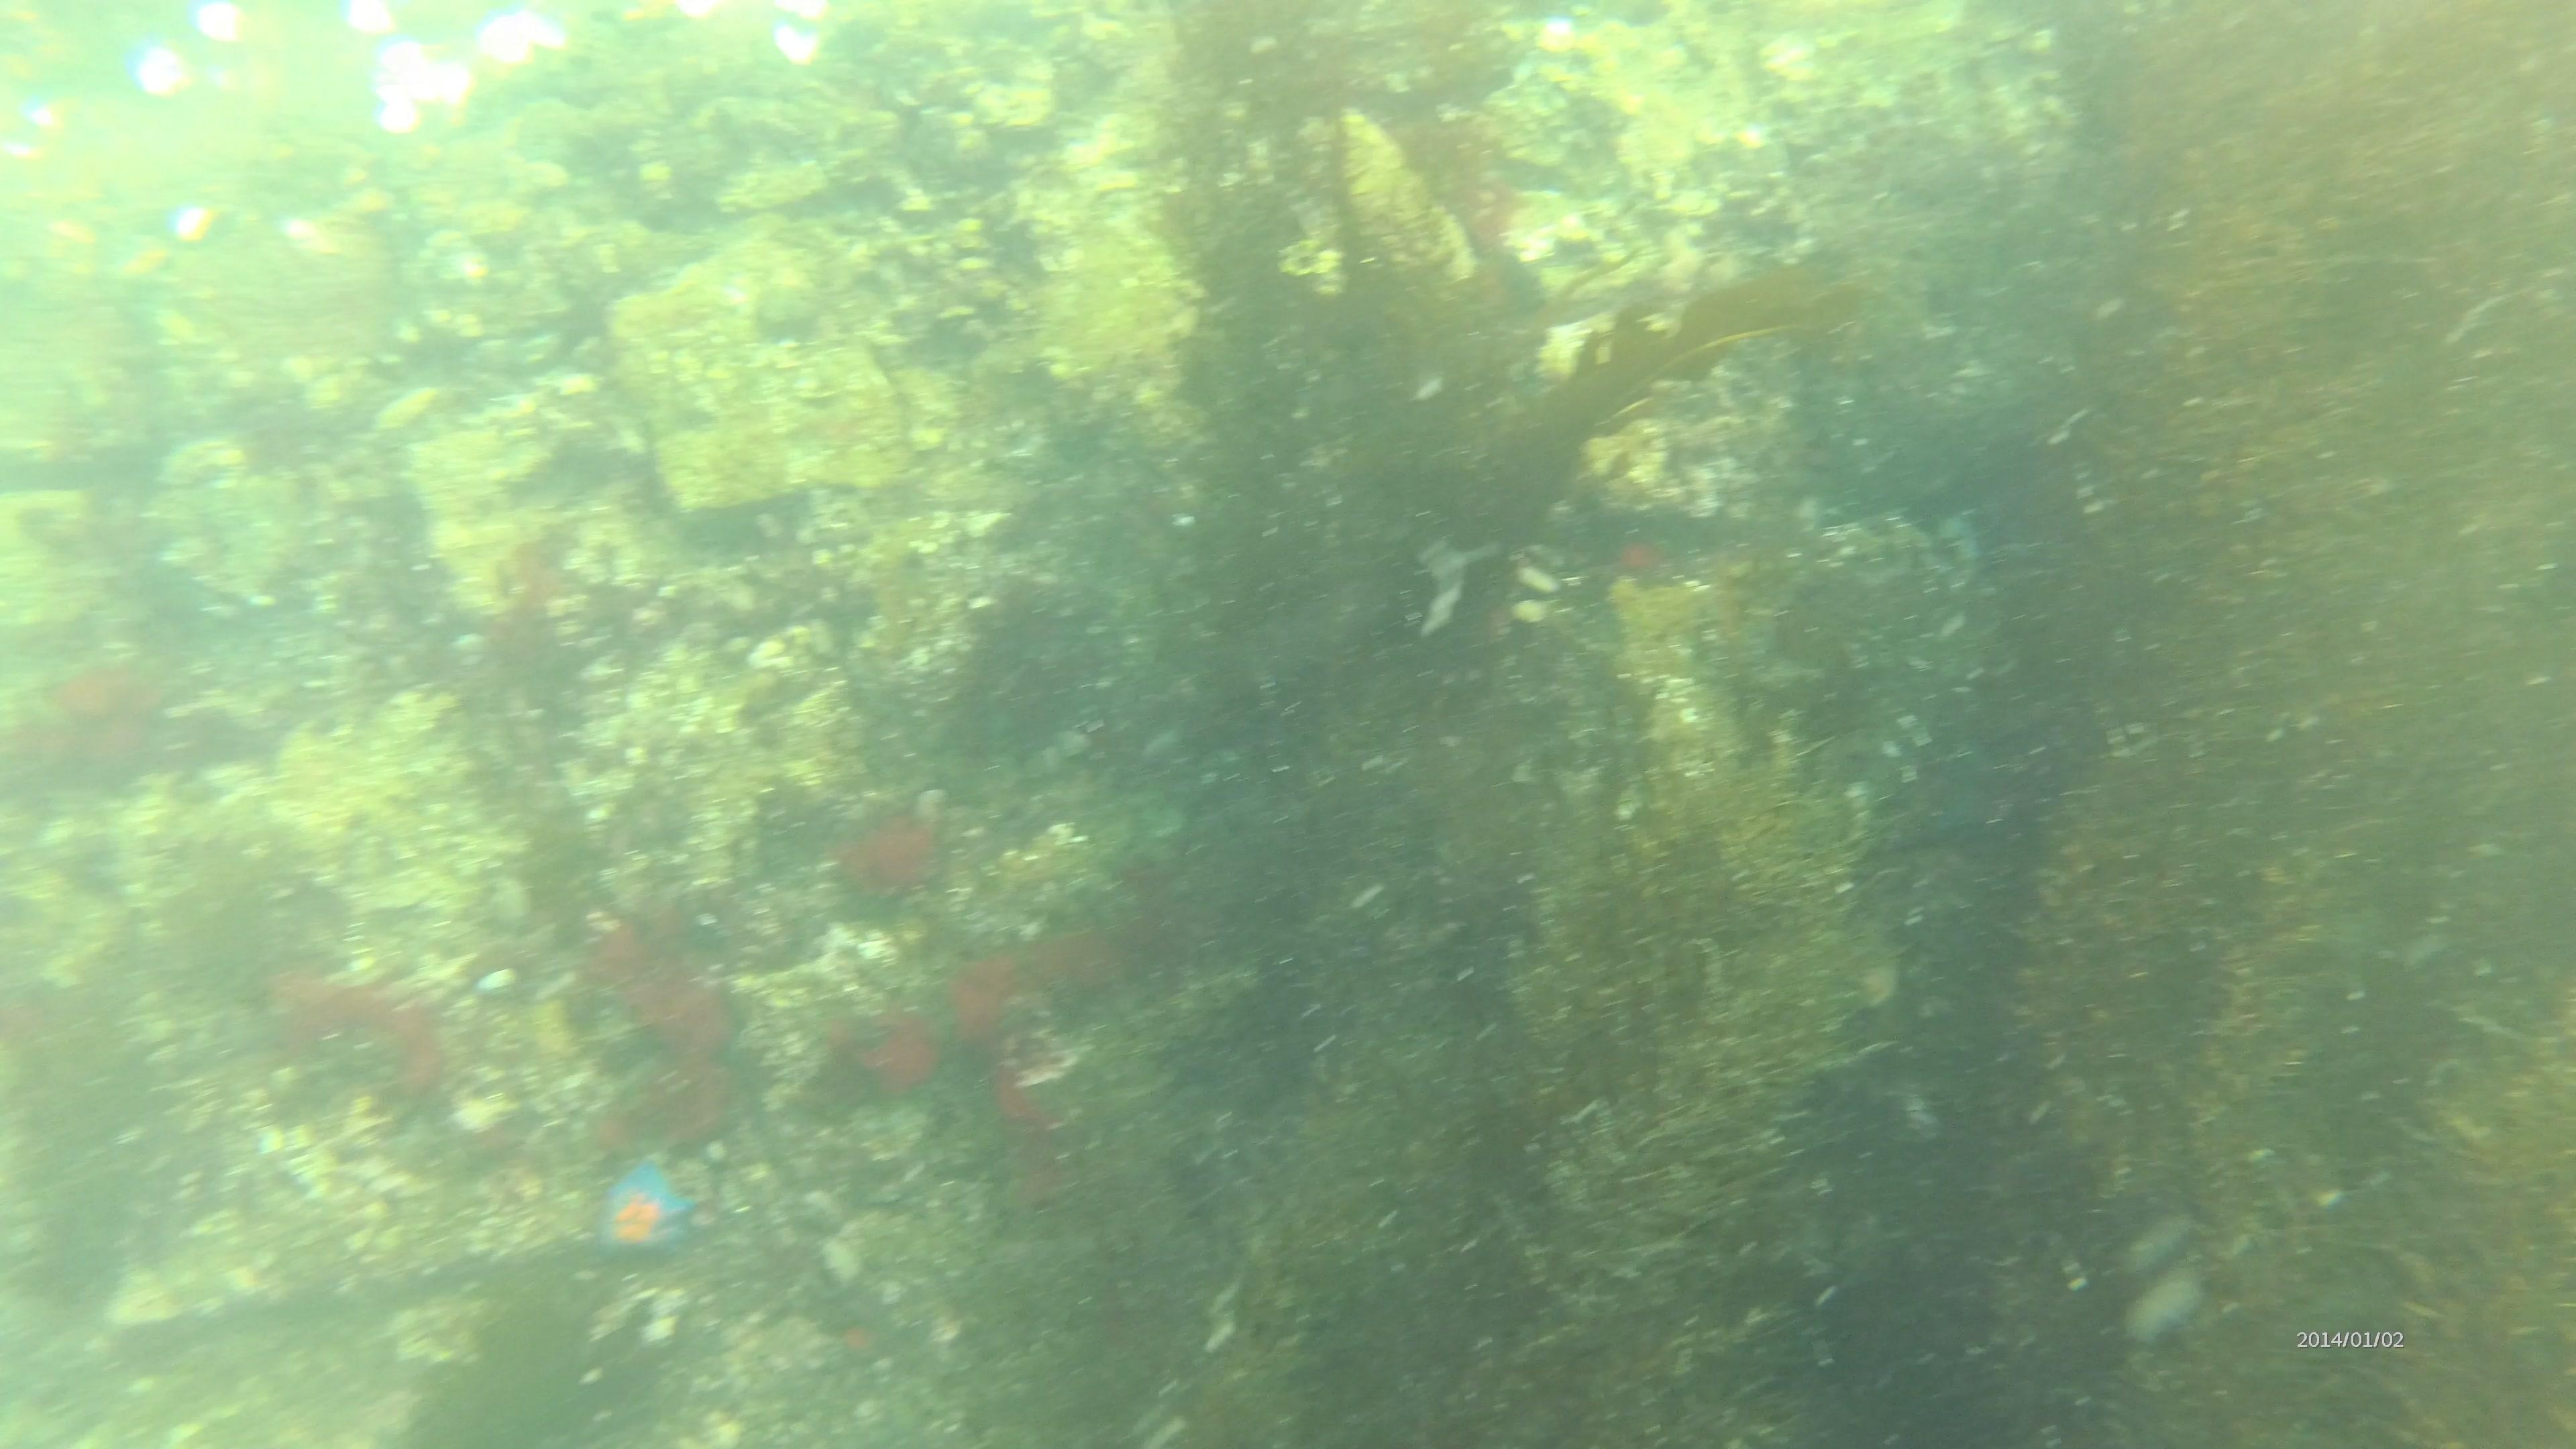starfish: (577, 1146, 708, 1277)
